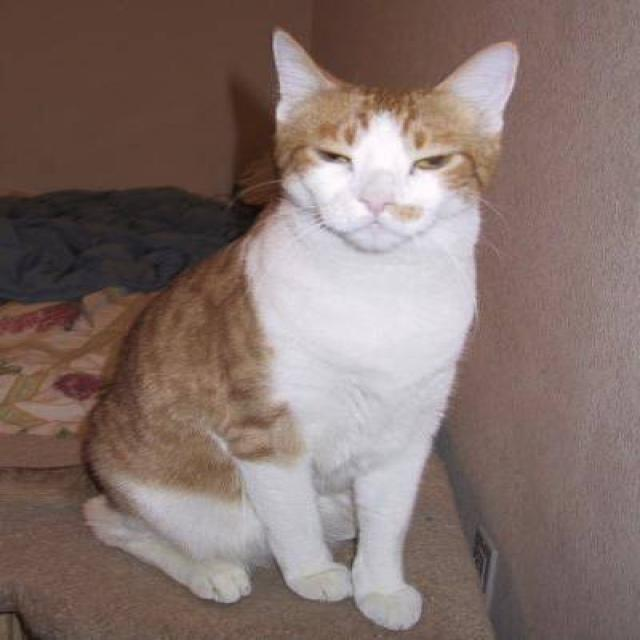cat: (75, 26, 520, 631)
